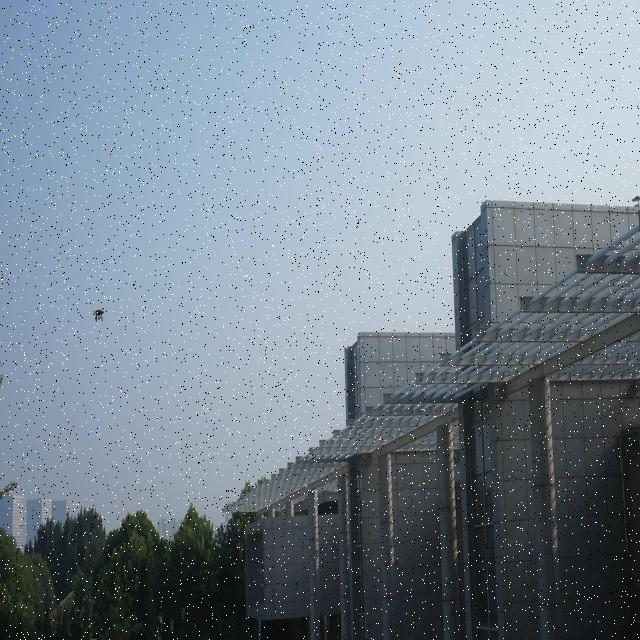UAV: (92, 307, 105, 323)
